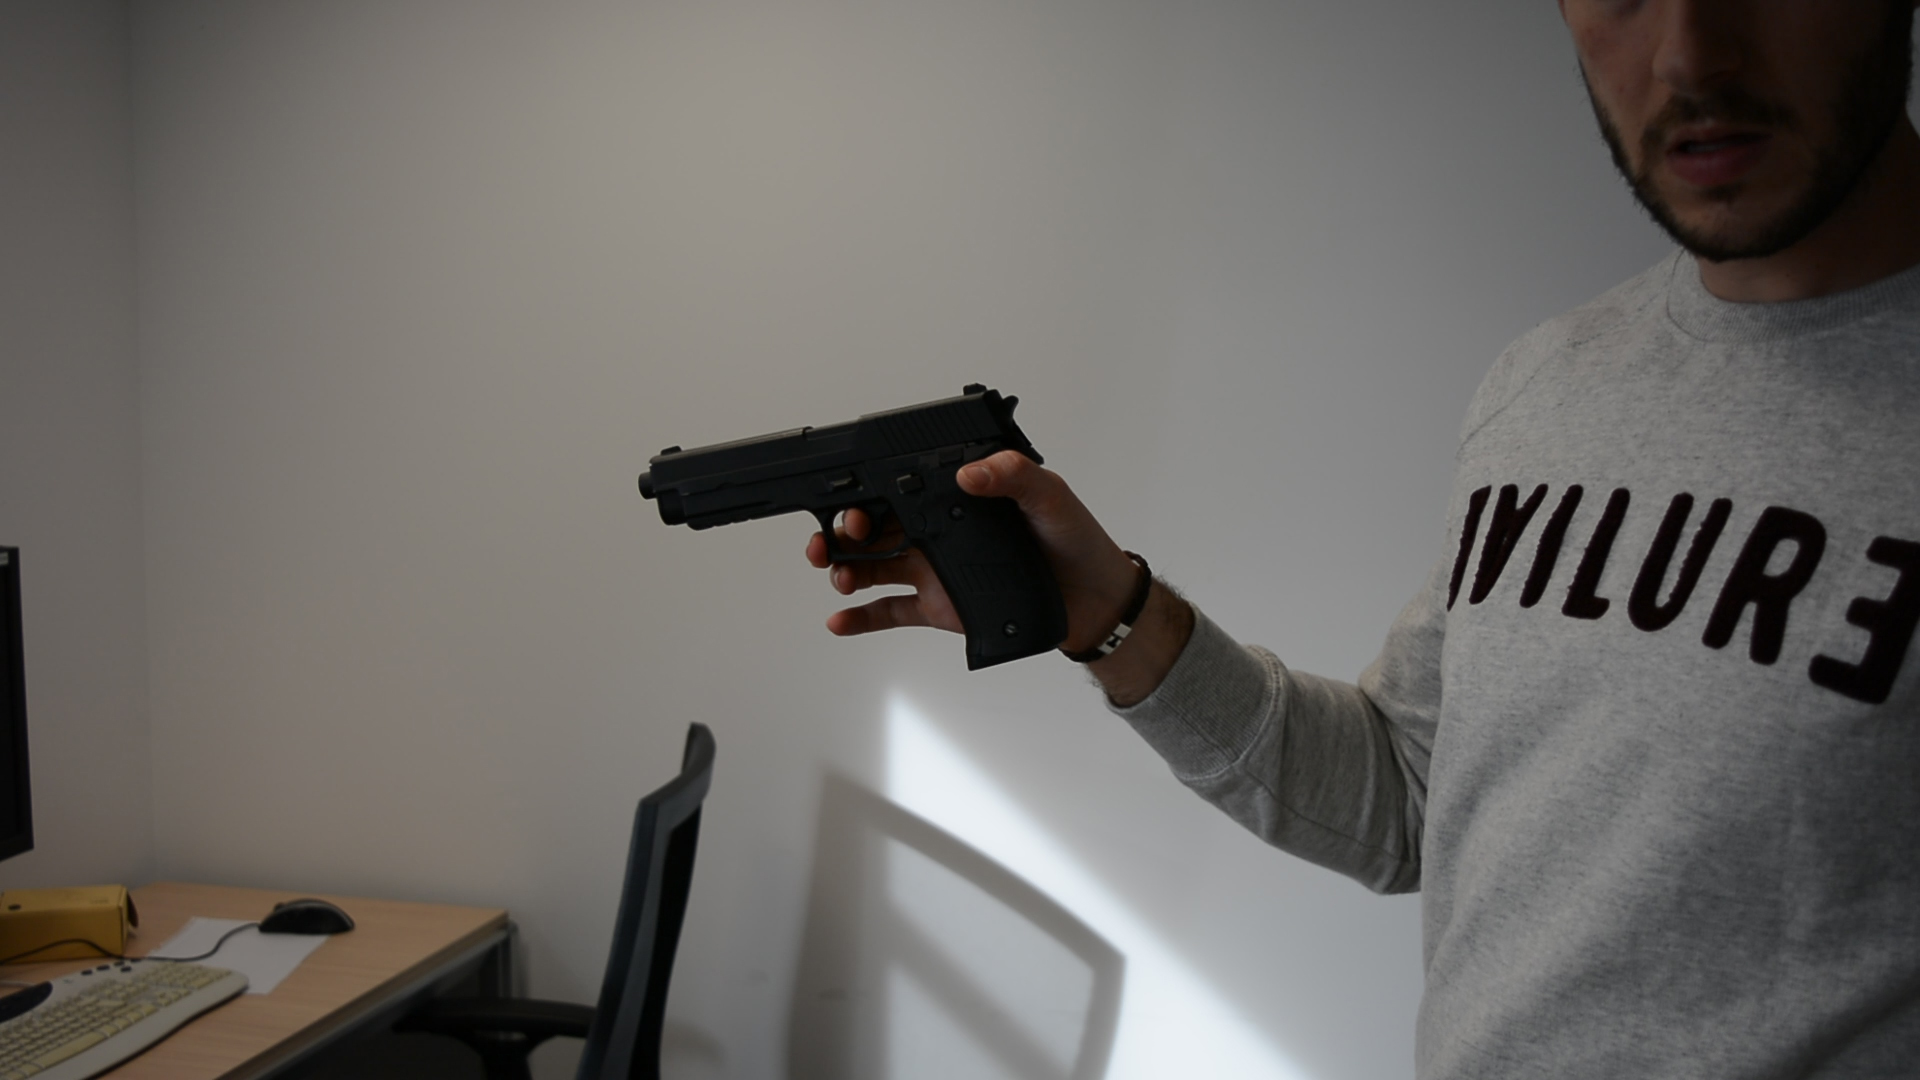pistol: (636, 381, 1073, 673)
